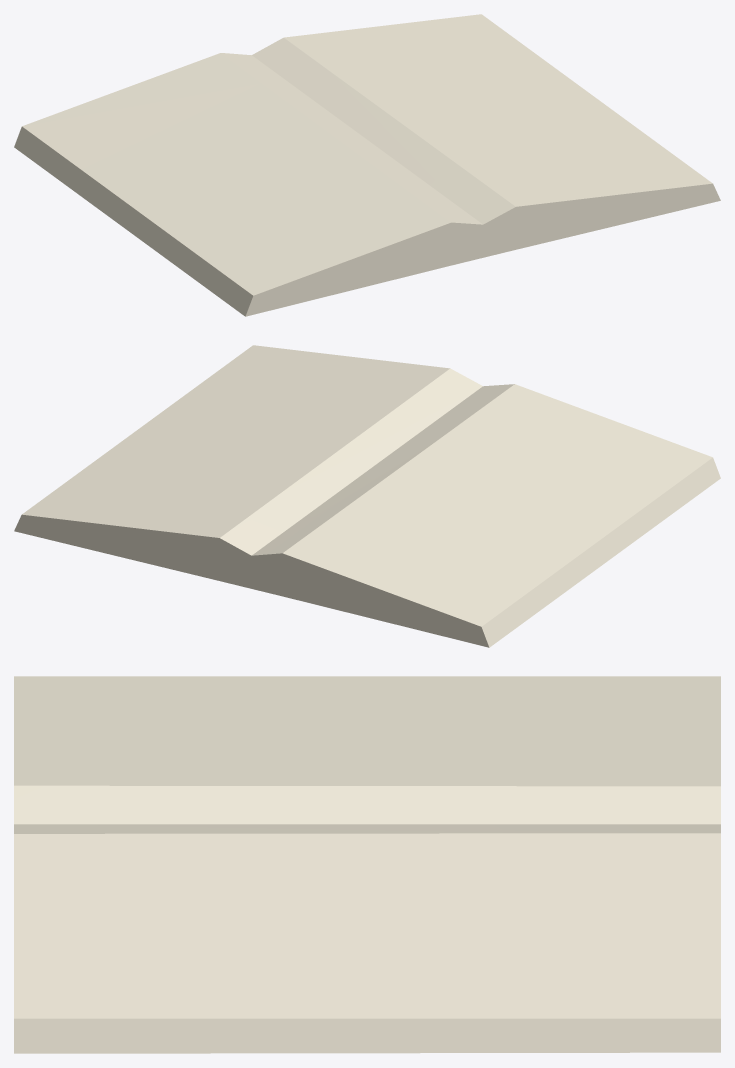
File: Book_Open.fbx
The picture shows the model from 3 angles, top to bottom: view 1: azimuth 30°, elevation 25°; view 2: azimuth 150°, elevation 25°; view 3: azimuth 270°, elevation 25°; orthographic projection. The views are drawn at different scales.
Visible parts, largest first — view 1: pCube427; view 2: pCube427; view 3: pCube427.
Part boxes in pixels (<box>): pCube427: <box>14,14,720,316</box>; pCube427: <box>14,345,720,647</box>; pCube427: <box>14,676,720,1053</box>.
Size of the model in its own units: 40.64 by 3.6 by 34.26.
